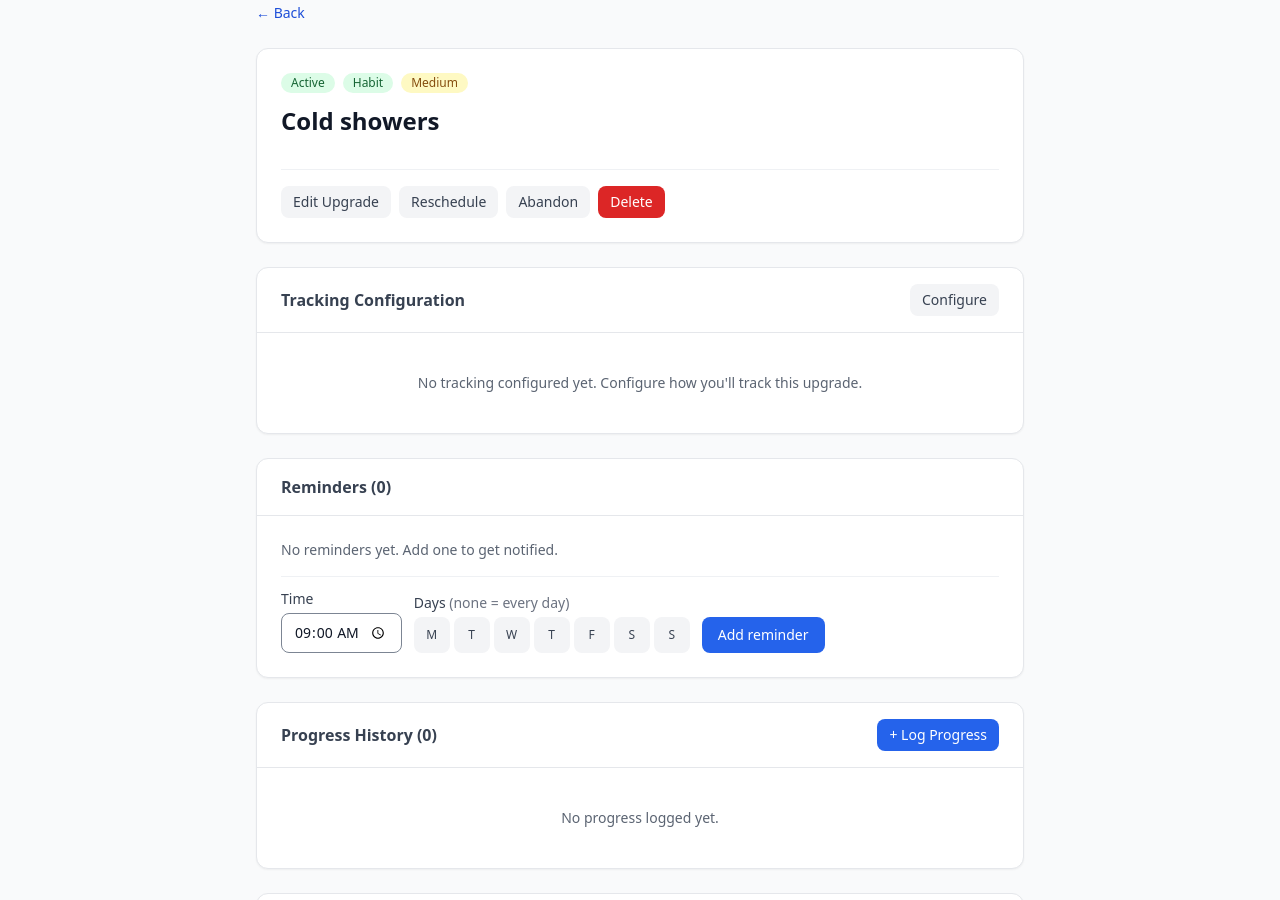
it: UpgradeDetailsPage › GivenThePageWasOpenedYesterday_WhenLogProgressIsOpenedToday_ThenItOffersTodaysDate
This screenshot has width=1280, height=900.
Check: the heading "Cold showers" is shown, box [281, 104, 440, 137]
Click the button "+ Log Progress": (938, 735) [877, 719, 999, 751]
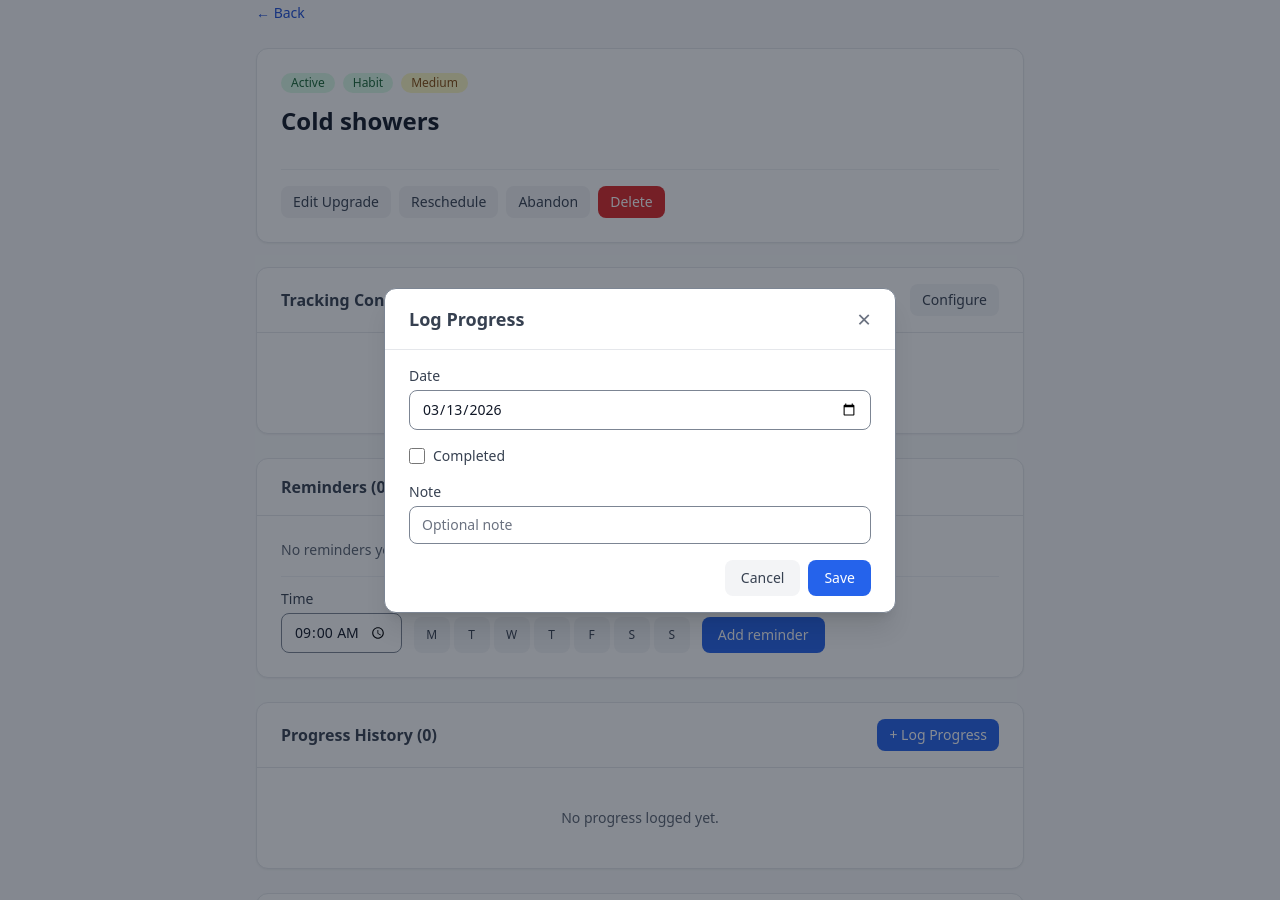
Check: the date field labelled "Date" holds "2026-03-13", box [409, 390, 871, 430]
